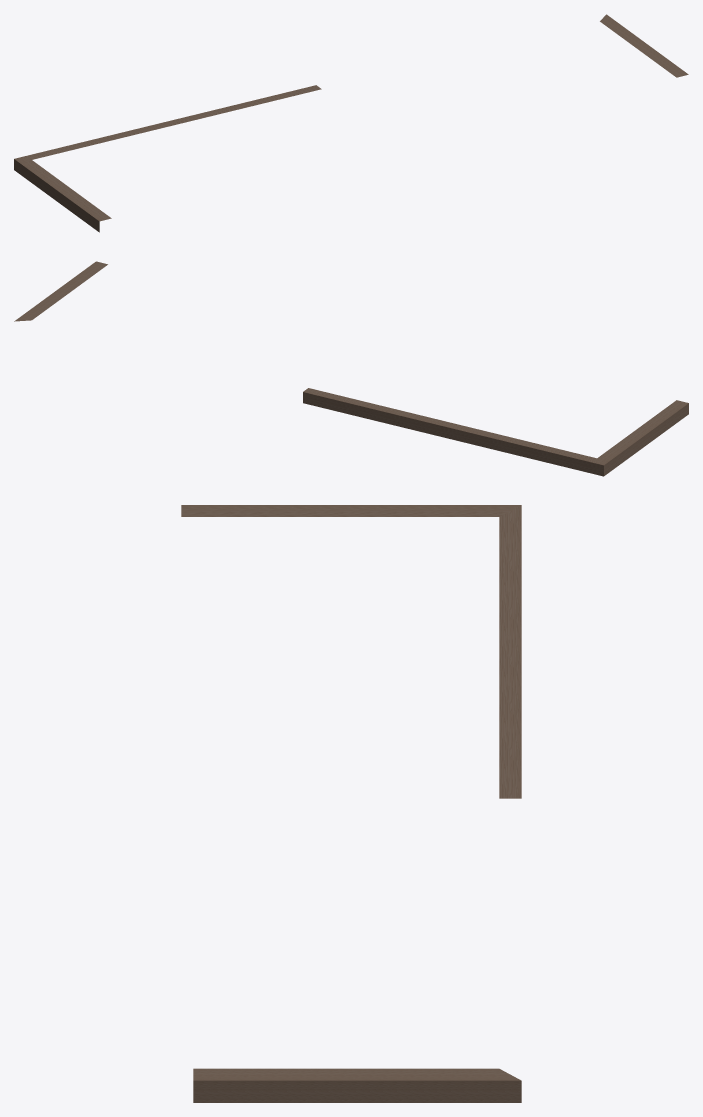
File: kd_stage_135ded_4_10.glb
3 renders of one model, top to bottom at view 1: azimuth 30°, elevation 25°; view 2: azimuth 150°, elevation 25°; view 3: azimuth 270°, elevation 25°, orthographic. The views are drawn at different scales.
Visible parts, largest first — view 1: kd_stage_135ded_4_10; view 2: kd_stage_135ded_4_10; view 3: kd_stage_135ded_4_10.
Boxes of the visible parts, bbox=[...] form: kd_stage_135ded_4_10: bbox=[14, 14, 688, 232]; kd_stage_135ded_4_10: bbox=[14, 261, 688, 476]; kd_stage_135ded_4_10: bbox=[181, 505, 521, 1102].
Bounding box in the file's own units: 7.15 × 0.1289 × 1.79.
1 material, 1 textured.
